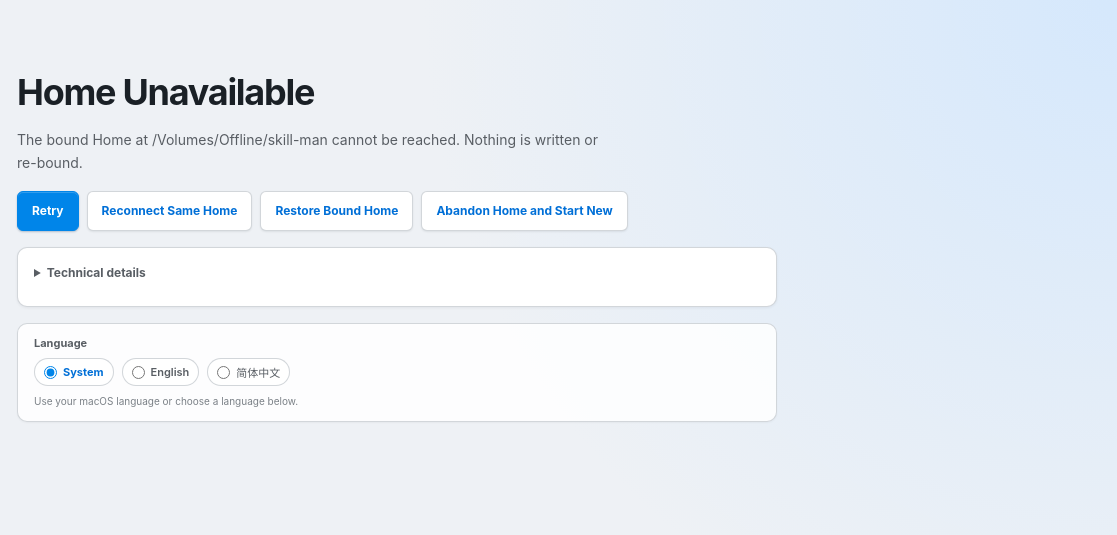
Scenario: Reconnect failure keeps the closed state and reports it
Click the button "Reconnect Same Home".
click(170, 210)  # box [87,190,252,230]
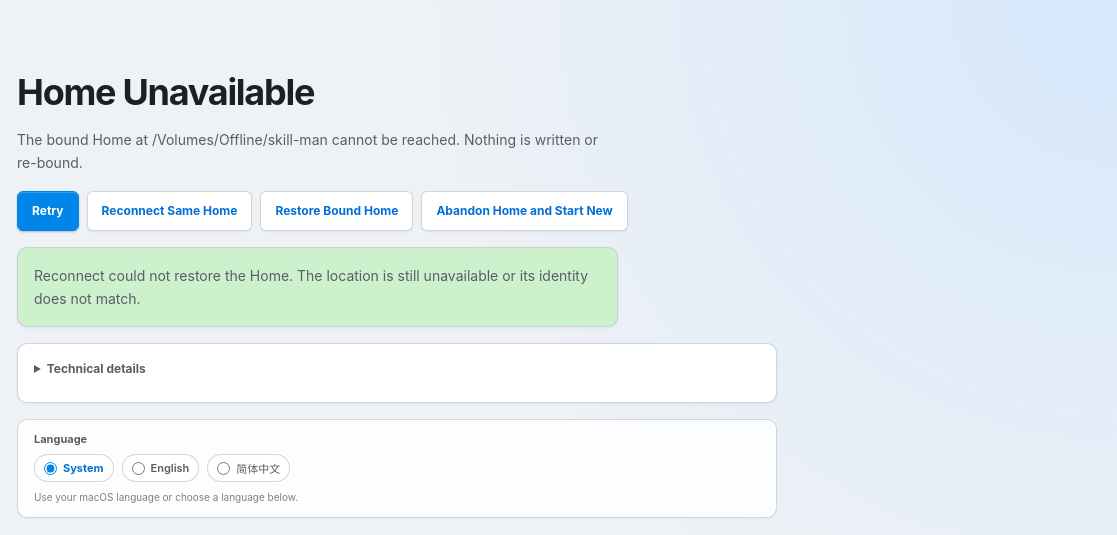
Result: the text "could not restore" is shown at [34,266,588,307]
